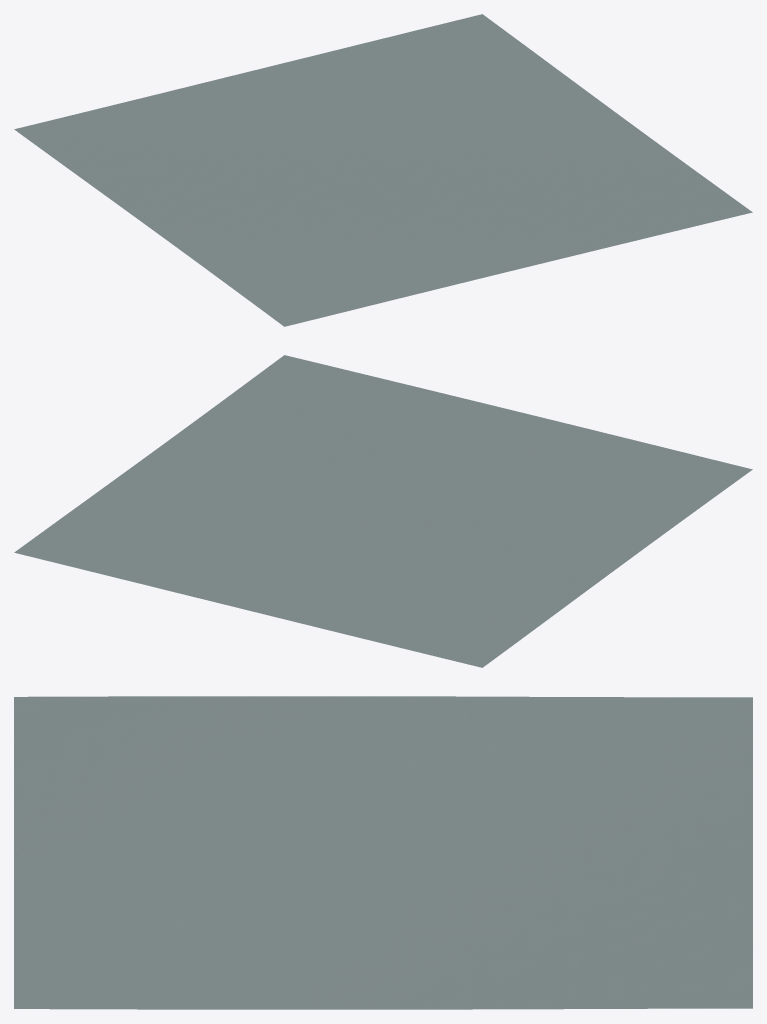
Rendered from 051_OceanMesh_Clone_.gltf.
3 renders of one model, top to bottom at view 1: azimuth 30°, elevation 25°; view 2: azimuth 150°, elevation 25°; view 3: azimuth 270°, elevation 25°, orthographic. The views are drawn at different scales.
Parts seen in each view (by area): view 1: OceanMesh(Clone); view 2: OceanMesh(Clone); view 3: OceanMesh(Clone).
Boxes of the visible parts, bbox=[...] form: OceanMesh(Clone): bbox=[14, 14, 752, 326]; OceanMesh(Clone): bbox=[14, 355, 752, 667]; OceanMesh(Clone): bbox=[14, 696, 752, 1009].
Size of the model in its own units: 30 by 0.06 by 30.
1 material, 1 textured.
